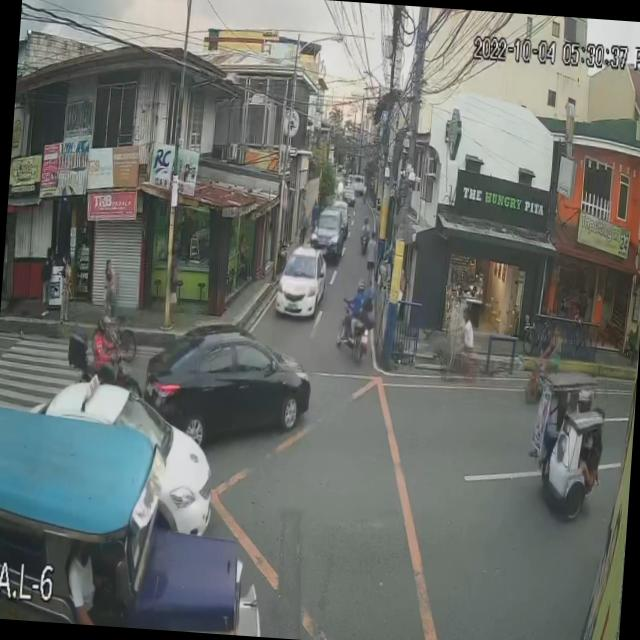full: (96, 311, 111, 334), (356, 277, 365, 295)
